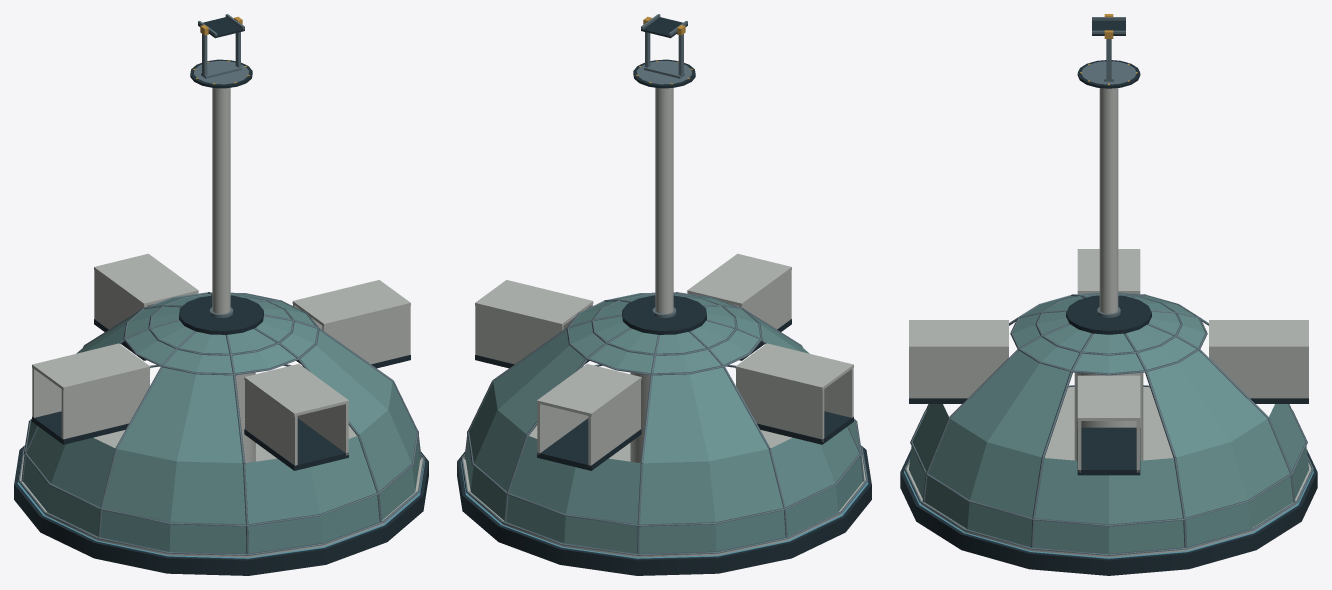
File: research_d0_lod2.glb
3 renders of one model, left to right at view 1: azimuth 30°, elevation 25°; view 2: azimuth 150°, elevation 25°; view 3: azimuth 270°, elevation 25°, orthographic.
Parts seen in each view (by area): view 1: BODY; view 2: BODY; view 3: BODY.
Boxes of the visible parts, left/top/right/bottom form: BODY: left=14, top=14, right=428, bottom=575; BODY: left=457, top=14, right=871, bottom=575; BODY: left=900, top=14, right=1317, bottom=575.
Bounding box in the file's own units: 29.2 × 35.85 × 29.2.
